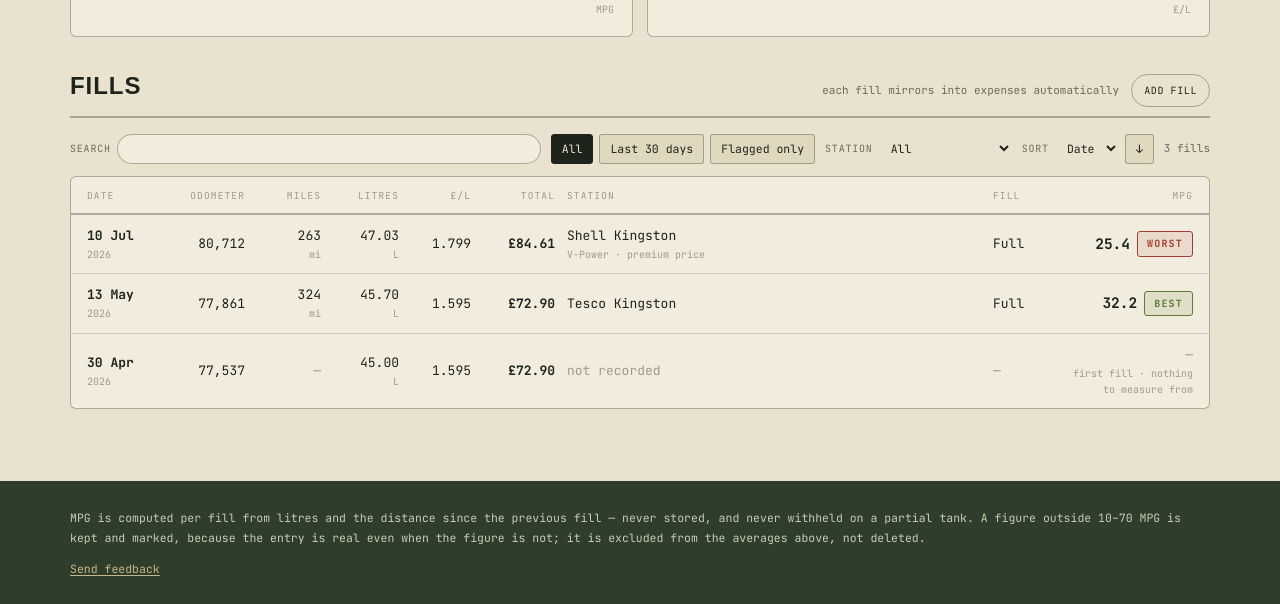
Scenario: the add-fill sheet › previews an edit against the fill before it, not the newest fill
(page scrolled)
expect the text "80,712" is shown: met, box [198,235,245,252]
Click the row with class "dt-row" that starts with "10 Jul" at (640, 244), box [71,215,1209,274]
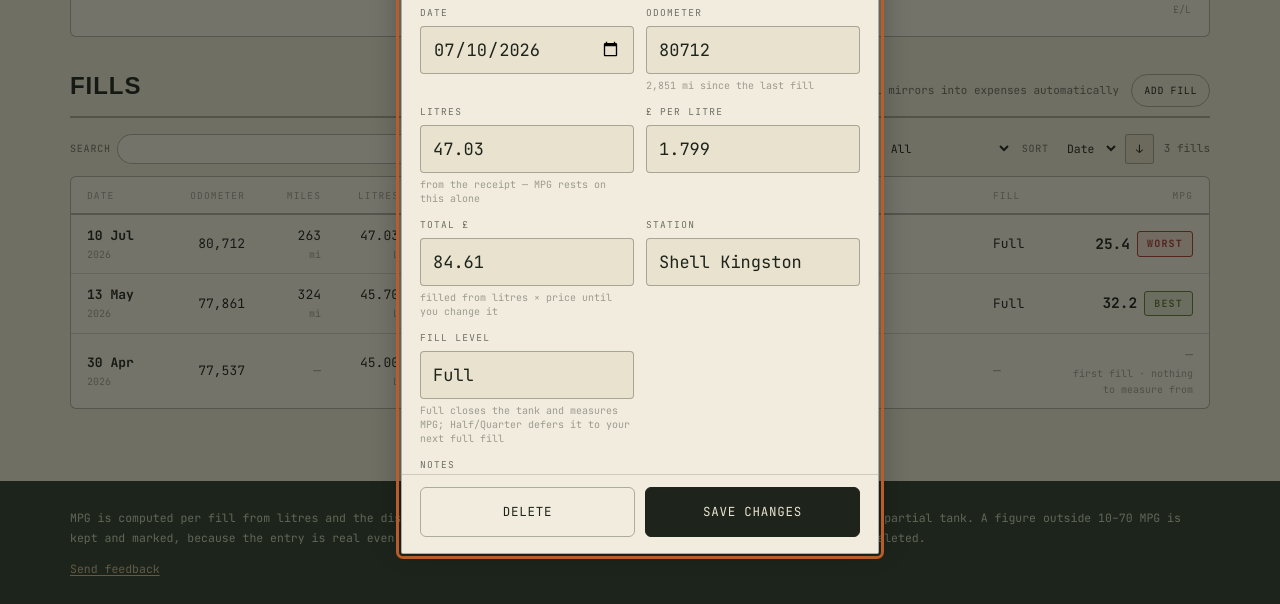
expect the text "2,851 mi since the last fill" is shown: met, box [646,79,814,92]
